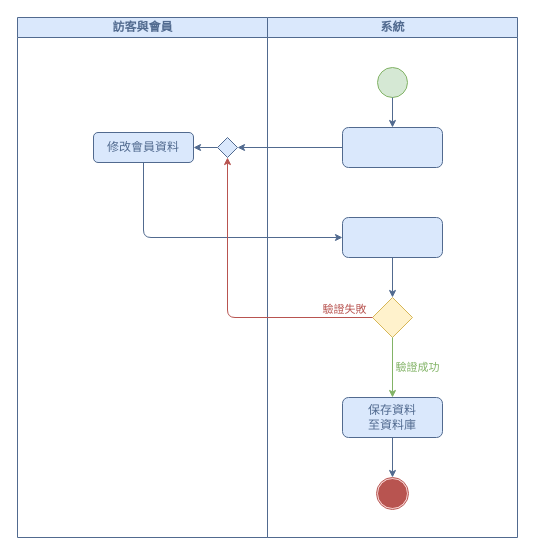
Image size: 535x555. Some labels were removed from this diagram. The shapes that lost their labels are listed below. From the top down, each one's centre as x and y in pixels, then its label:
point (392, 147): 顯示修改 會員資料畫面
point (392, 237): 驗證資料 是否正確
